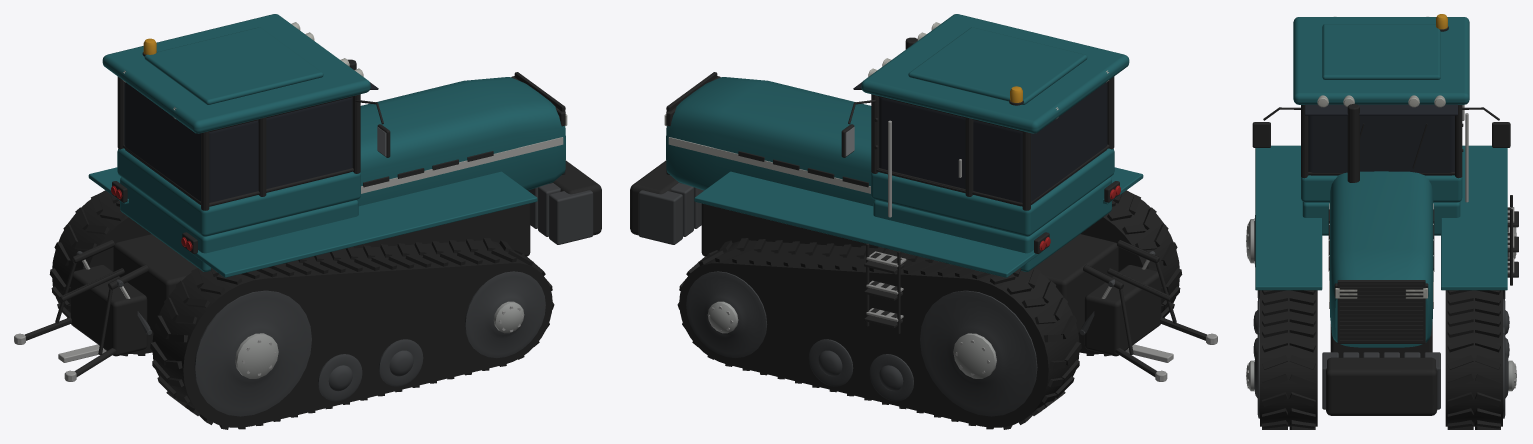
Rendered from SM_Prop_farm_tractortrack_0.glb.
3 views of the same model, side by side, from view 1: azimuth 30°, elevation 25°; view 2: azimuth 150°, elevation 25°; view 3: azimuth 270°, elevation 25° (orthographic). The views are drawn at different scales.
Parts seen in each view (by area): view 1: SM_Prop_farm_tractortrack_0; view 2: SM_Prop_farm_tractortrack_0; view 3: SM_Prop_farm_tractortrack_0.
Part boxes in pixels (x1=…): SM_Prop_farm_tractortrack_0: x1=14, y1=14, x2=601, y2=429; SM_Prop_farm_tractortrack_0: x1=630, y1=14, x2=1217, y2=429; SM_Prop_farm_tractortrack_0: x1=1246, y1=14, x2=1518, y2=429.
Size of the model in its own units: 6.14 by 3.5 by 2.94.
